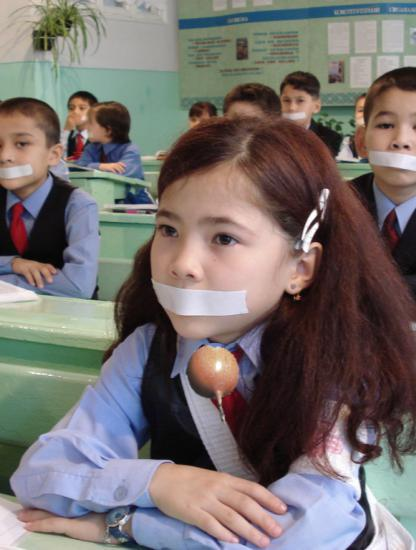Granadilla: (172, 344, 251, 423)
